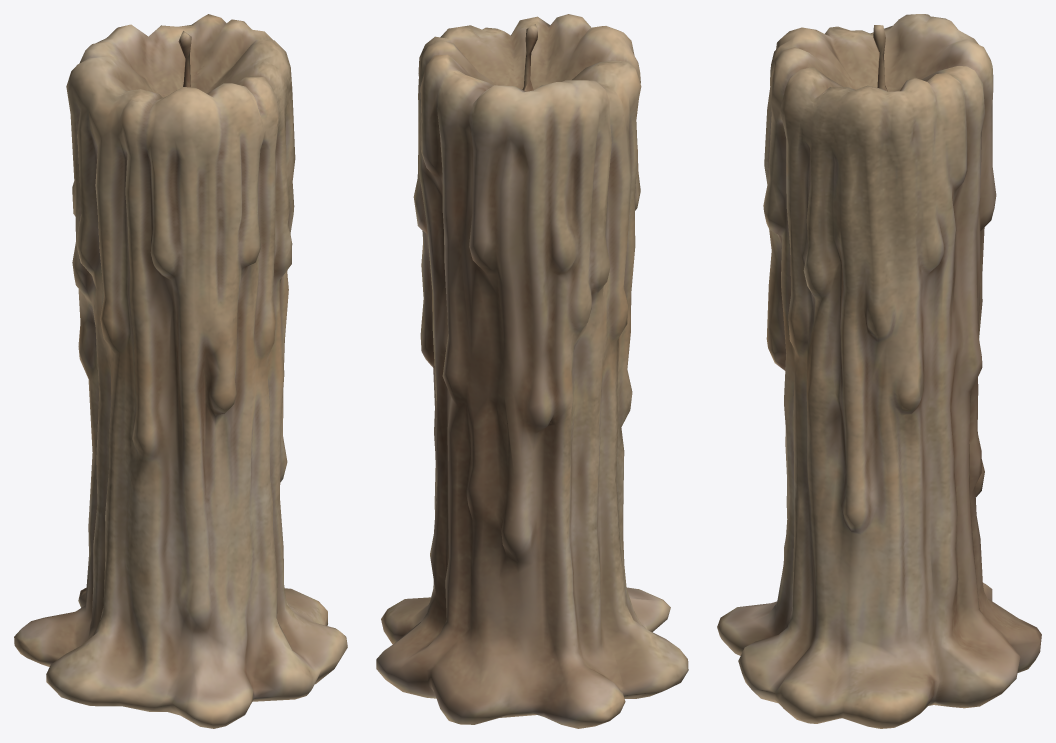
Rendered from SM_Candle_low_004.fbx.
3 renders of one model, left to right at view 1: azimuth 30°, elevation 25°; view 2: azimuth 150°, elevation 25°; view 3: azimuth 270°, elevation 25°, orthographic.
Parts seen in each view (by area): view 1: SM_Candle_low_004_LOD0; view 2: SM_Candle_low_004_LOD0; view 3: SM_Candle_low_004_LOD0.
Boxes of the visible parts, <box> form: SM_Candle_low_004_LOD0: <box>14,14,347,728</box>; SM_Candle_low_004_LOD0: <box>376,14,688,728</box>; SM_Candle_low_004_LOD0: <box>717,14,1041,728</box>.
Size of the model in its own units: 14.07 by 13.93 by 30.86.
